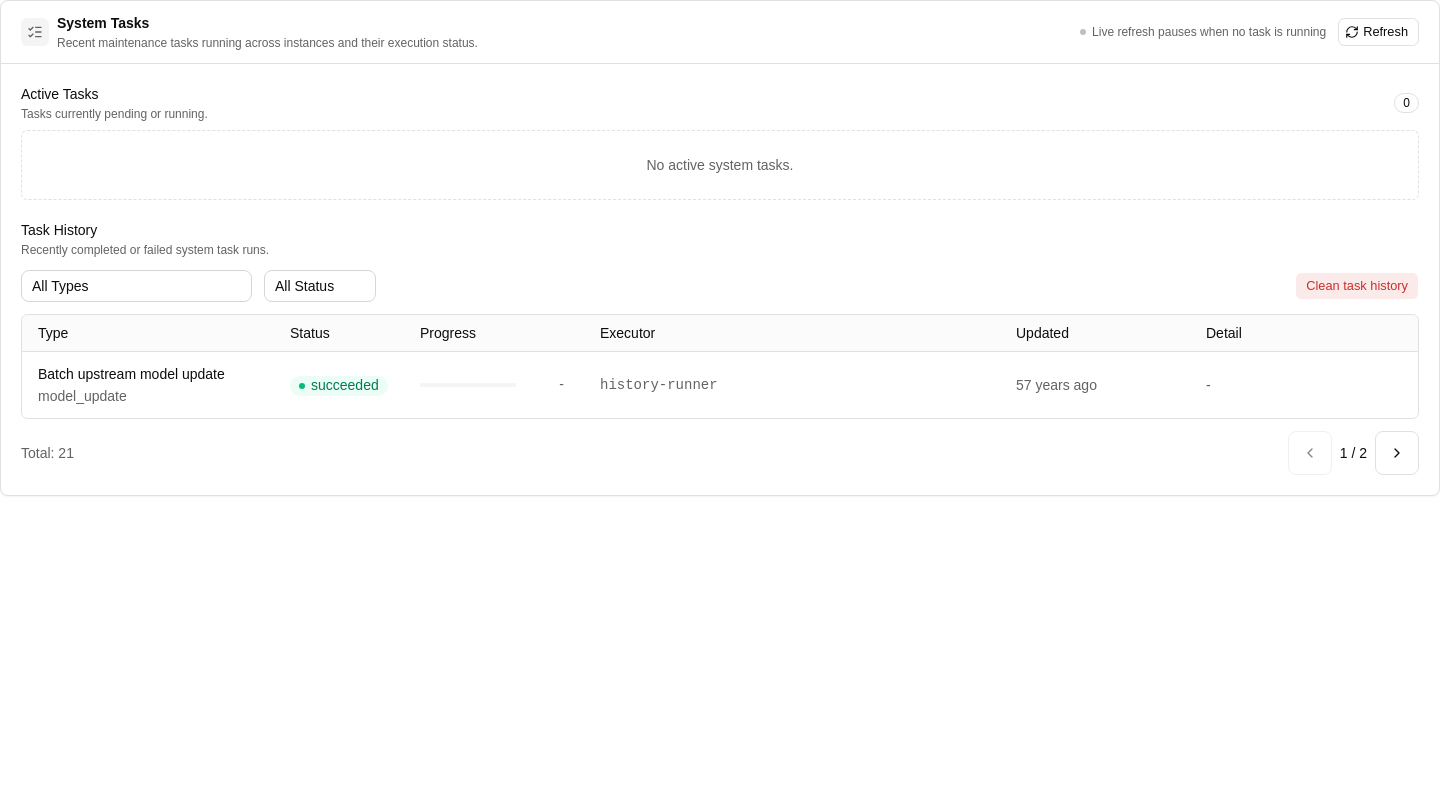
requires confirmation and cleans all matching history pages using the selected filters
Select "Batch upstream model update" in the dropdown named "Type" at (136, 286), box 21,270 -> 252,302
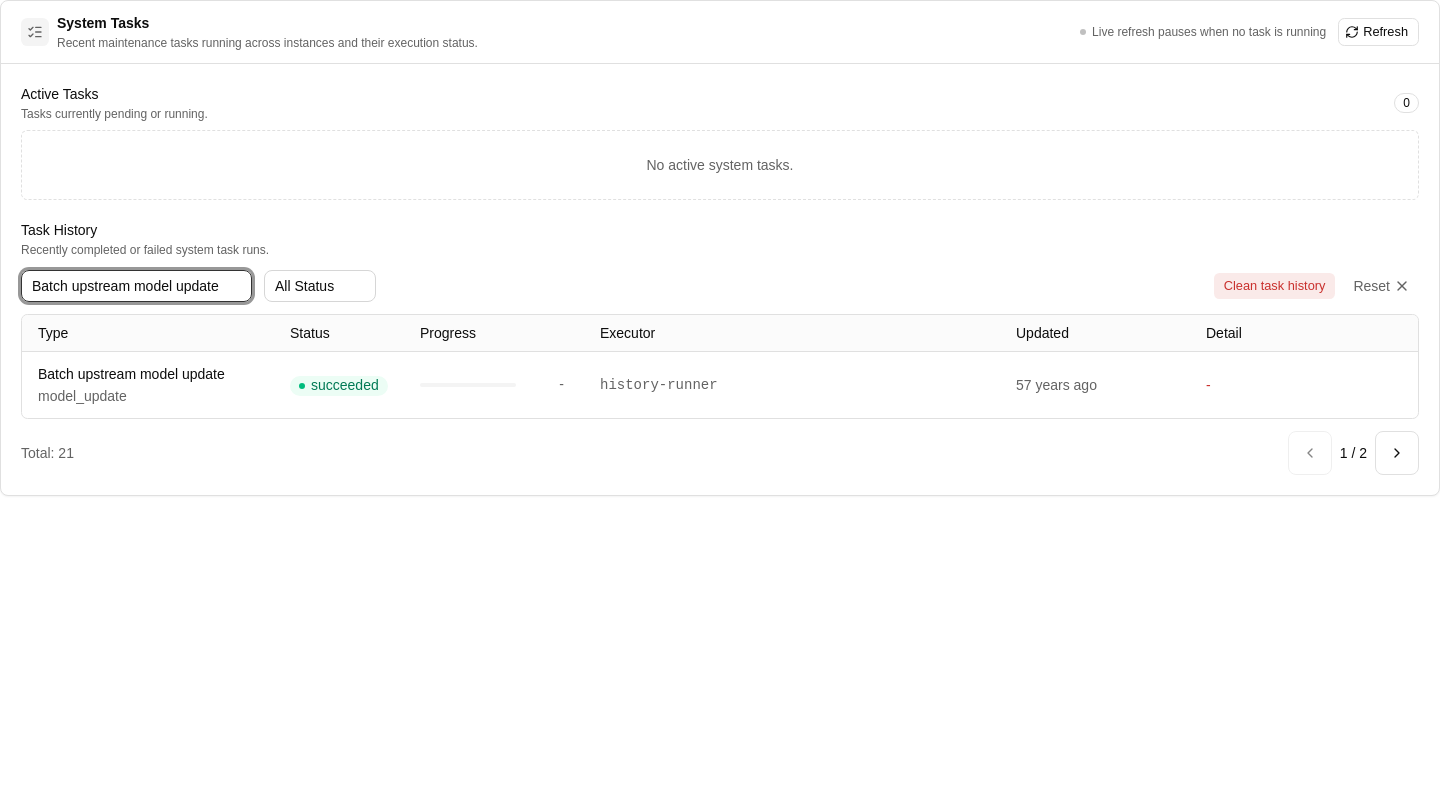
Click the button "Clean task history" at (1275, 286), box 1213,272 -> 1336,300
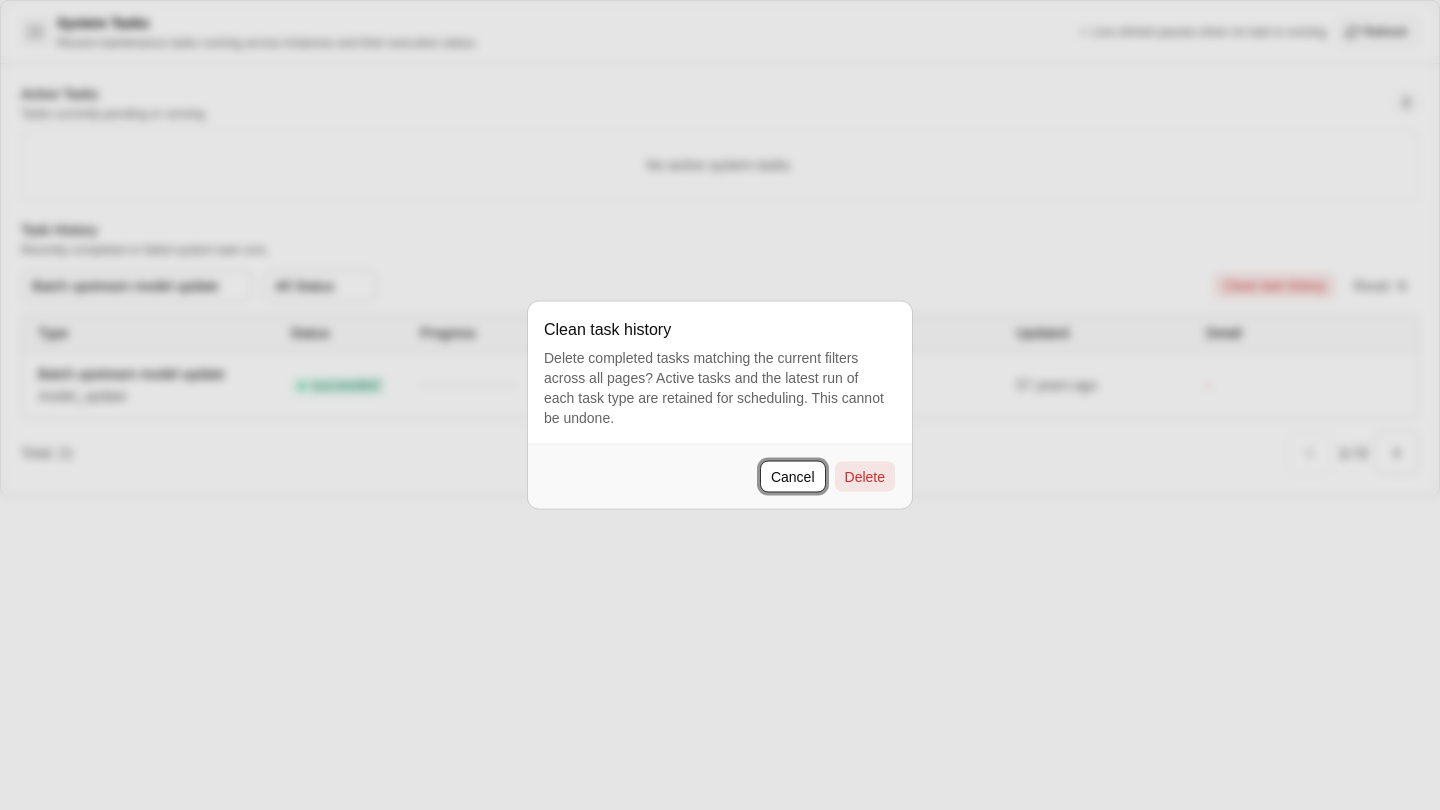
Result: the text "latest run of each task type" is shown at 544,350 -> 884,426
Click the button "Cancel" at (793, 476), box 760,460 -> 826,492
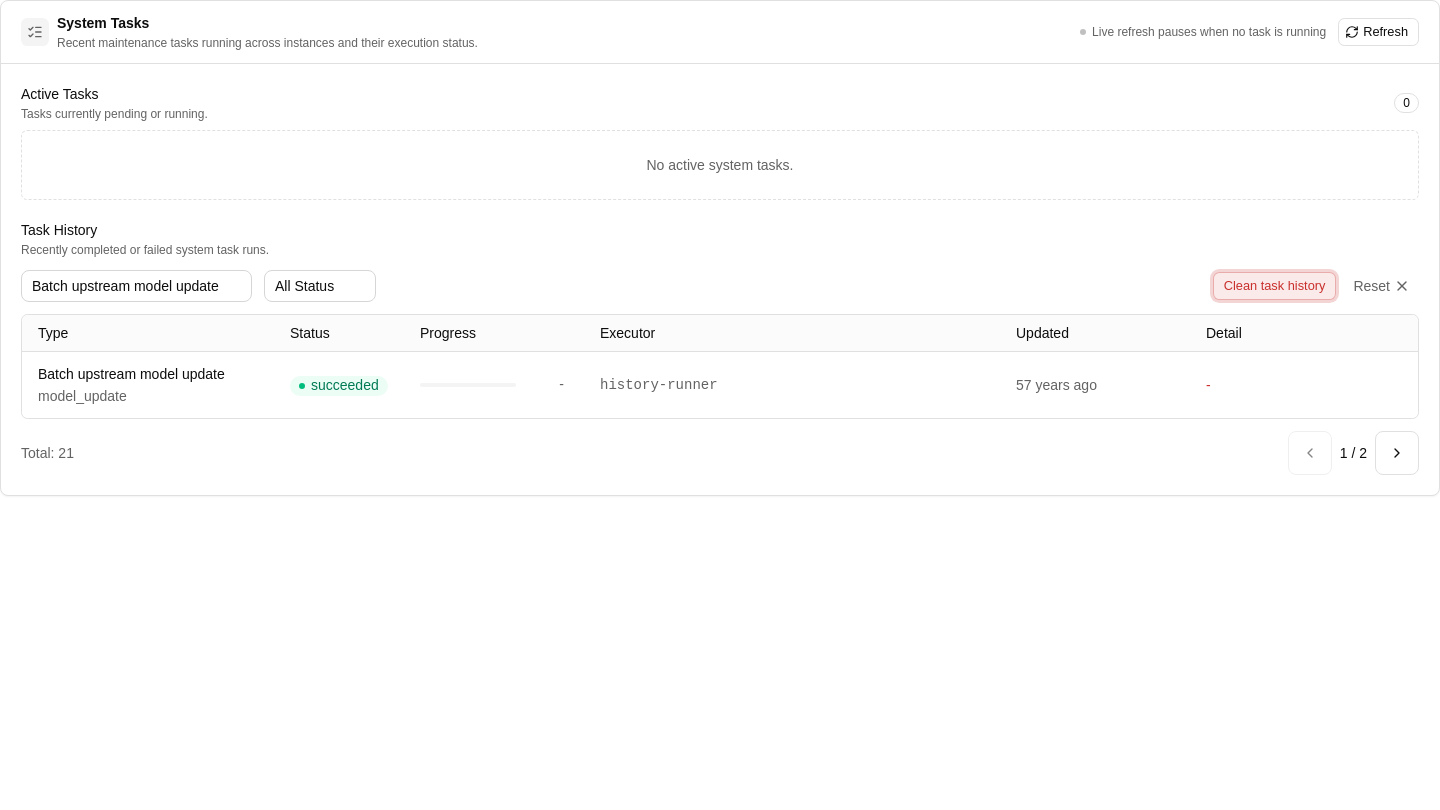
Click the button "Clean task history" at (1275, 286), box 1213,272 -> 1336,300
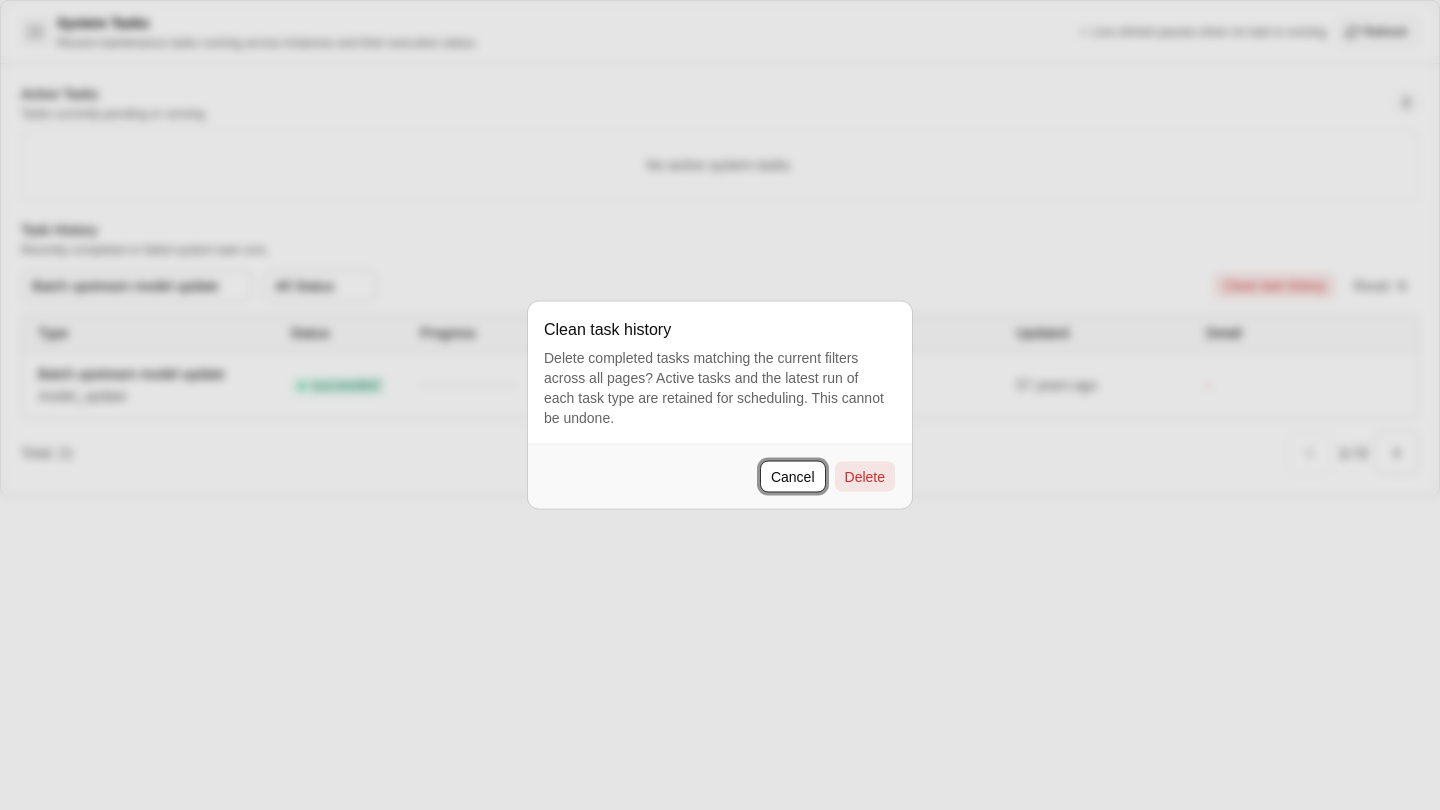
Click the button "Delete" at (865, 476), box 834,460 -> 896,492
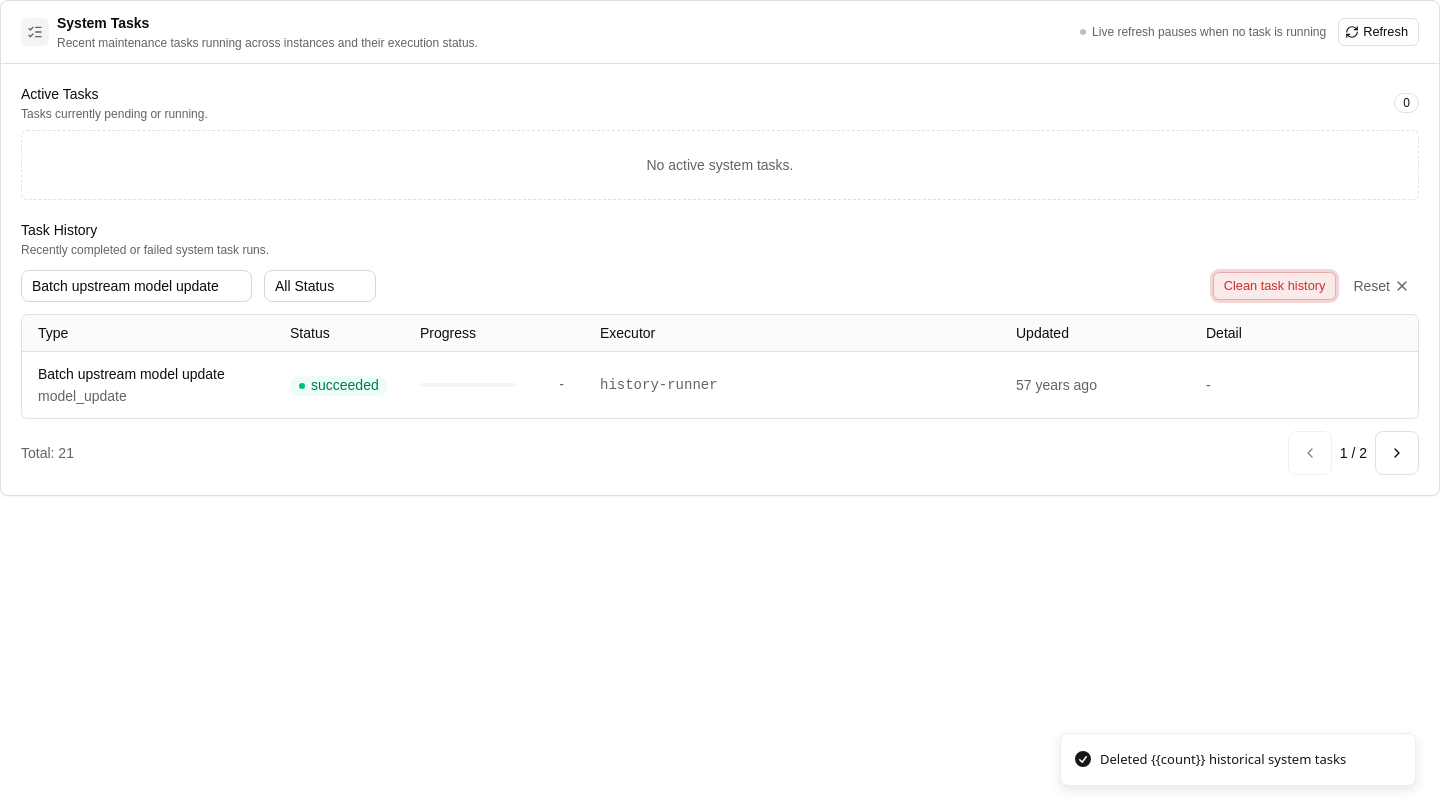
Result: the dialog is gone
